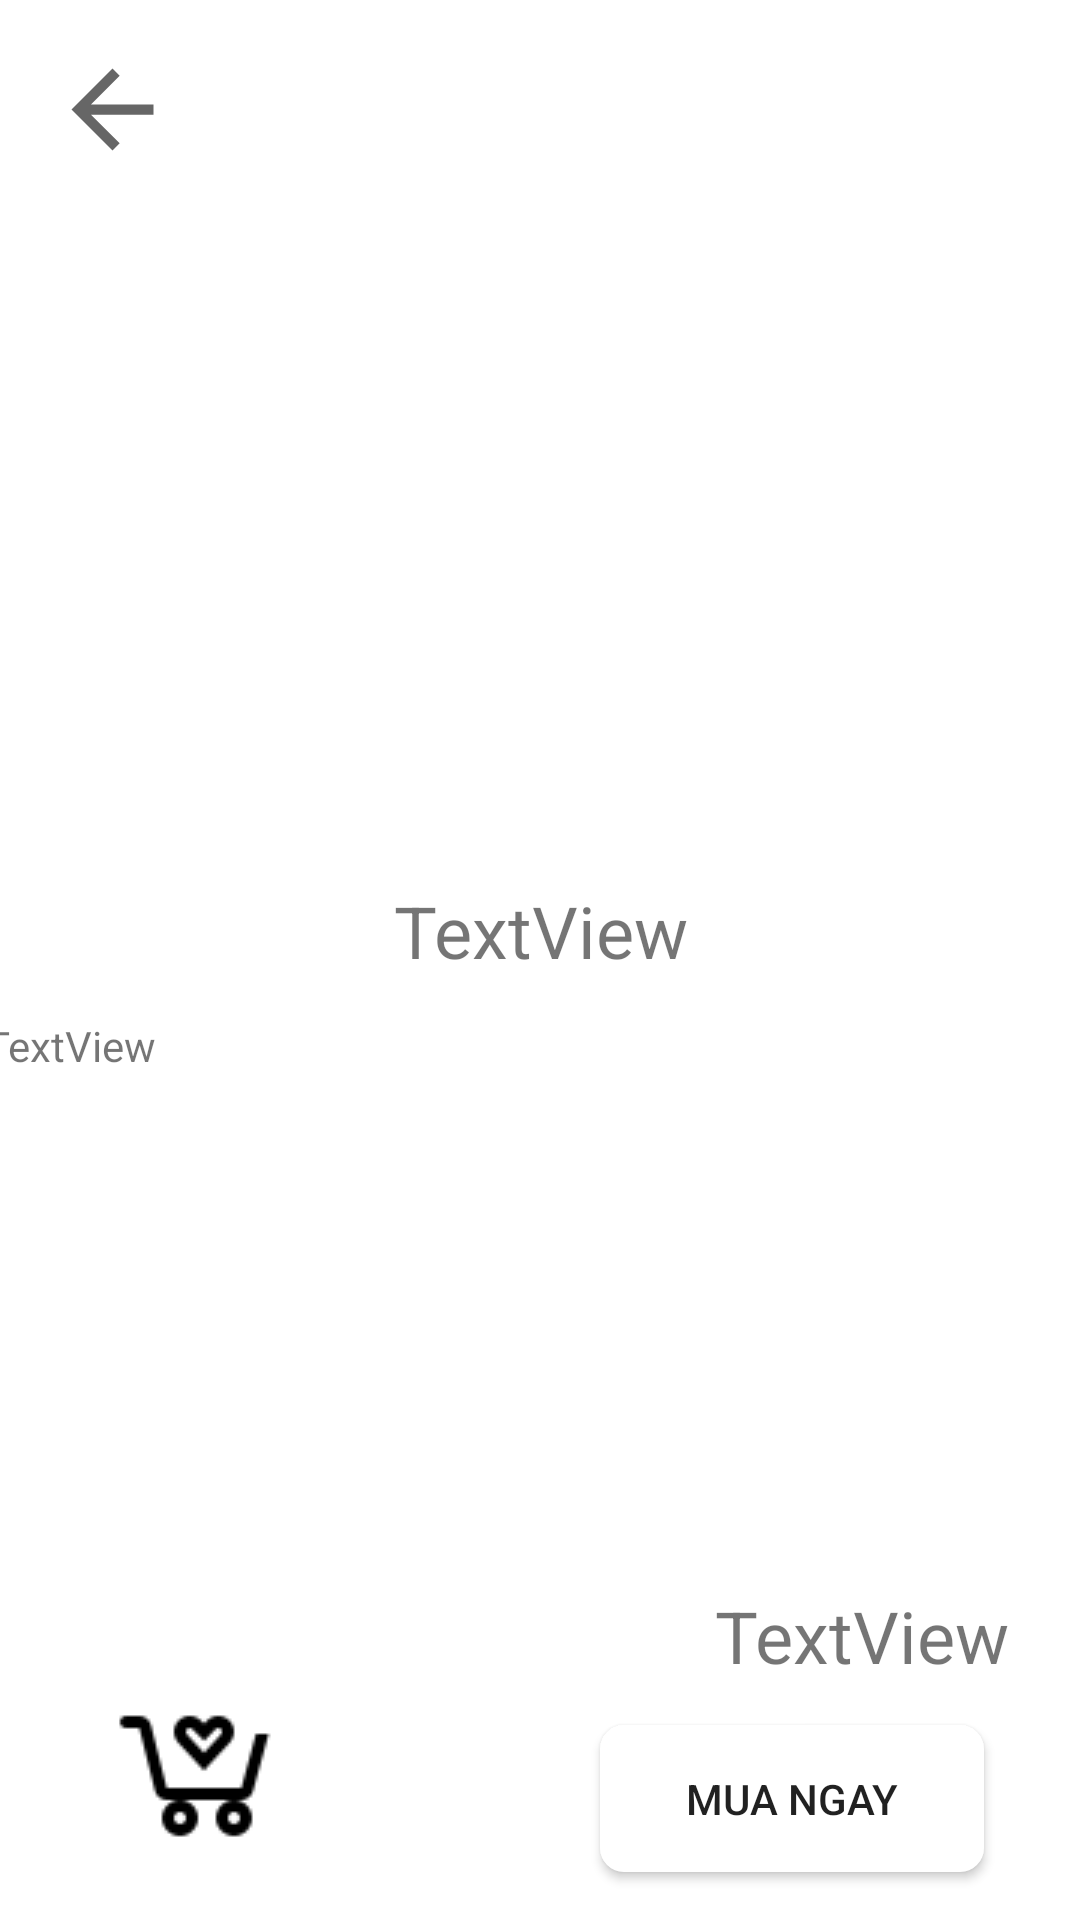

Icons on this 1080w x 1920h Android screen, each with its box as (x1, y1, x2, y2):
cart: (119, 1715, 271, 1837)
